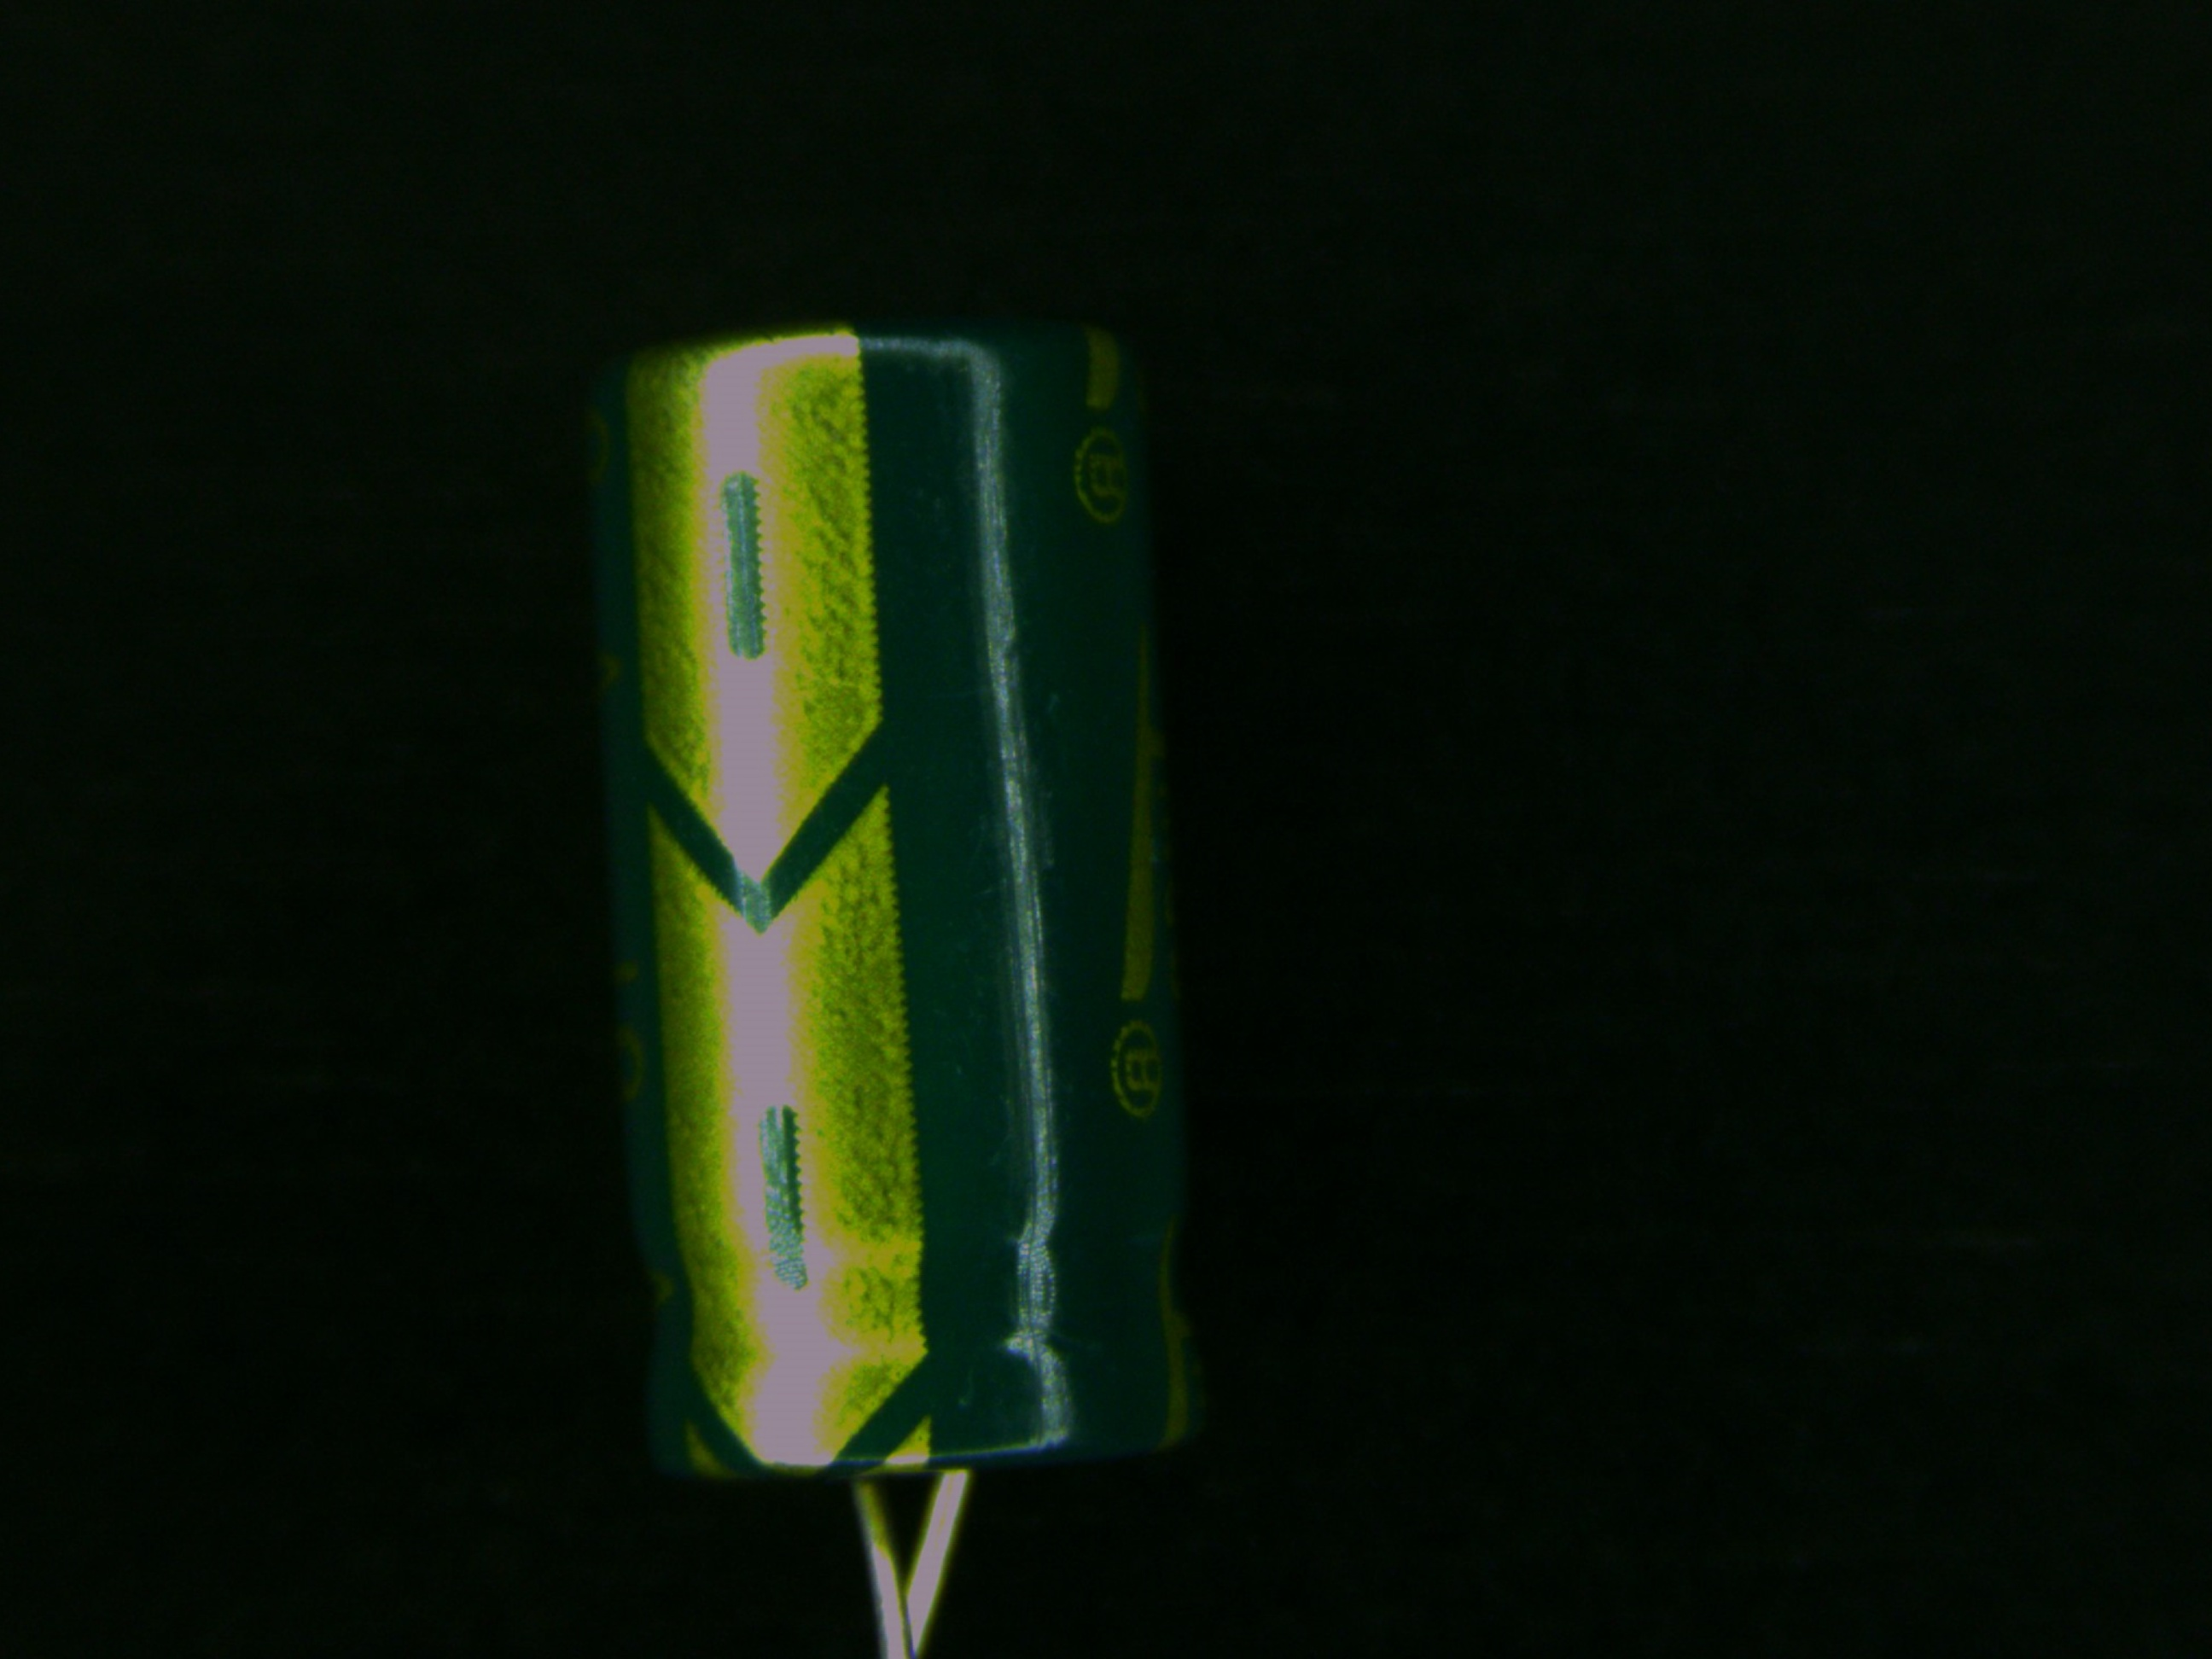c1: (578, 317, 1211, 1593)
